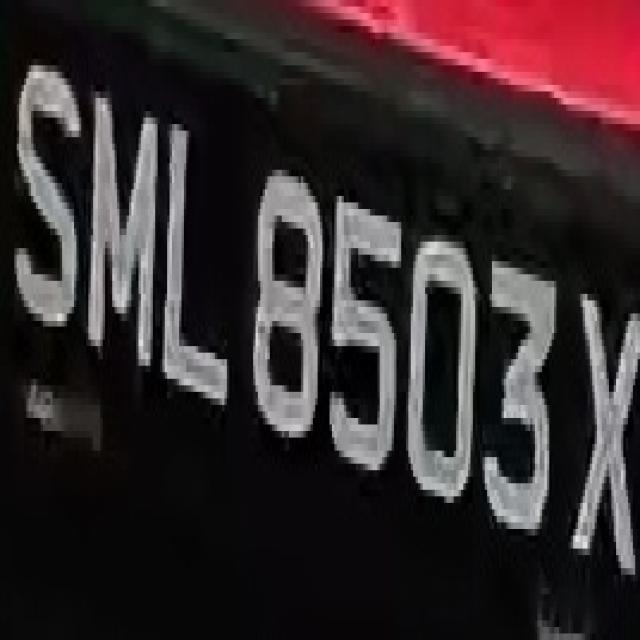0: (404, 189, 484, 529)
3: (485, 235, 554, 542)
5: (332, 150, 401, 503)
8: (250, 137, 330, 477)
L: (162, 105, 236, 444)
M: (84, 52, 160, 386)
S: (7, 39, 81, 353)
X: (568, 242, 638, 607)
